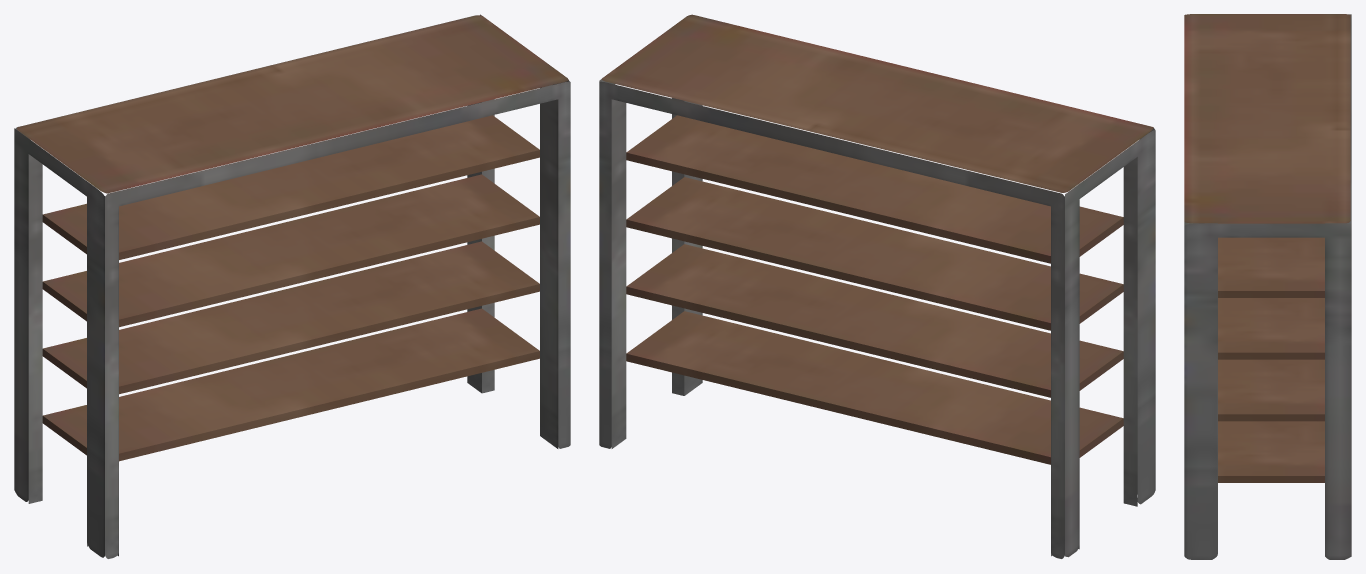
The model's file is open-shelving--3.gltf.
3 renders of one model, left to right at view 1: azimuth 30°, elevation 25°; view 2: azimuth 150°, elevation 25°; view 3: azimuth 270°, elevation 25°, orthographic. The views are drawn at different scales.
Parts seen in each view (by area): view 1: Open_cabinet_small; view 2: Open_cabinet_small; view 3: Open_cabinet_small.
Part boxes in pixels (x1,y1,x2,y2): Open_cabinet_small: (14, 14, 570, 558); Open_cabinet_small: (599, 14, 1155, 558); Open_cabinet_small: (1184, 14, 1351, 559).
Size of the model in its own units: 1.19 by 0.8916 by 0.4013.
Materials: 1 (1 with a texture image).
